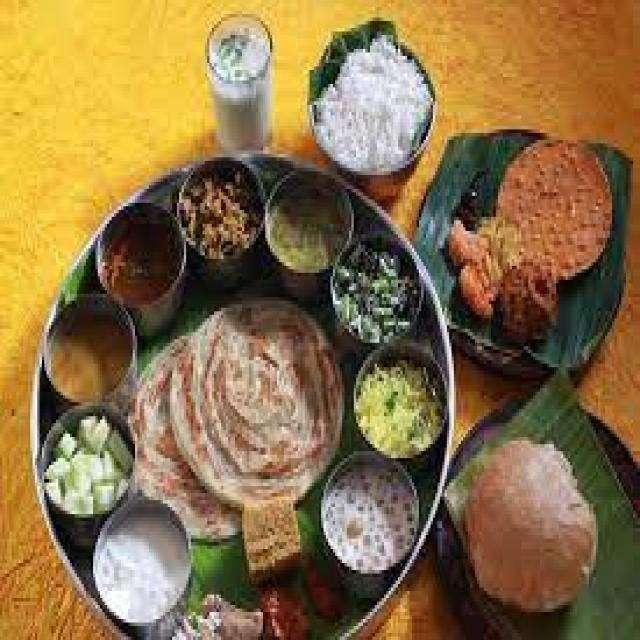curd: (87, 497, 195, 636), (324, 458, 431, 574)
pickle: (443, 188, 487, 264)
rice: (316, 44, 436, 182), (341, 335, 458, 469)
roti: (159, 317, 333, 512)
sambar-rasam: (446, 426, 597, 618), (94, 195, 188, 312)
veg-fry: (160, 303, 341, 527)
